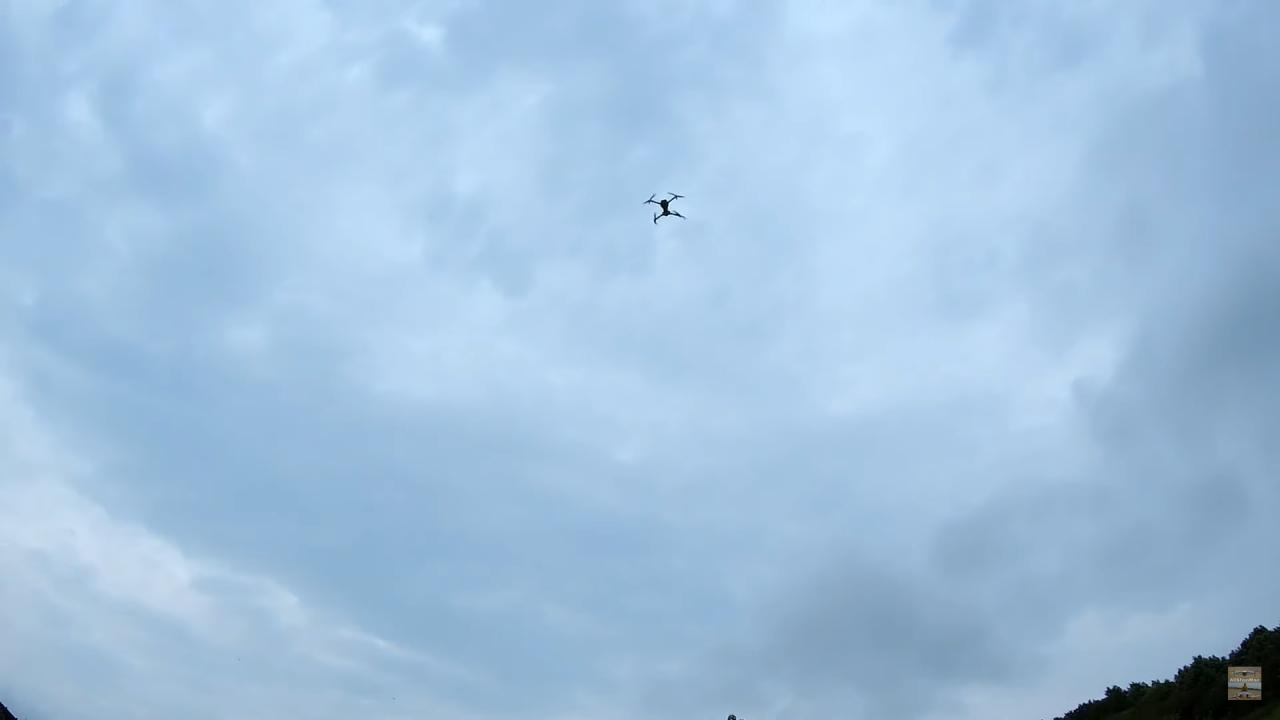Drone: (635, 182, 694, 232)
